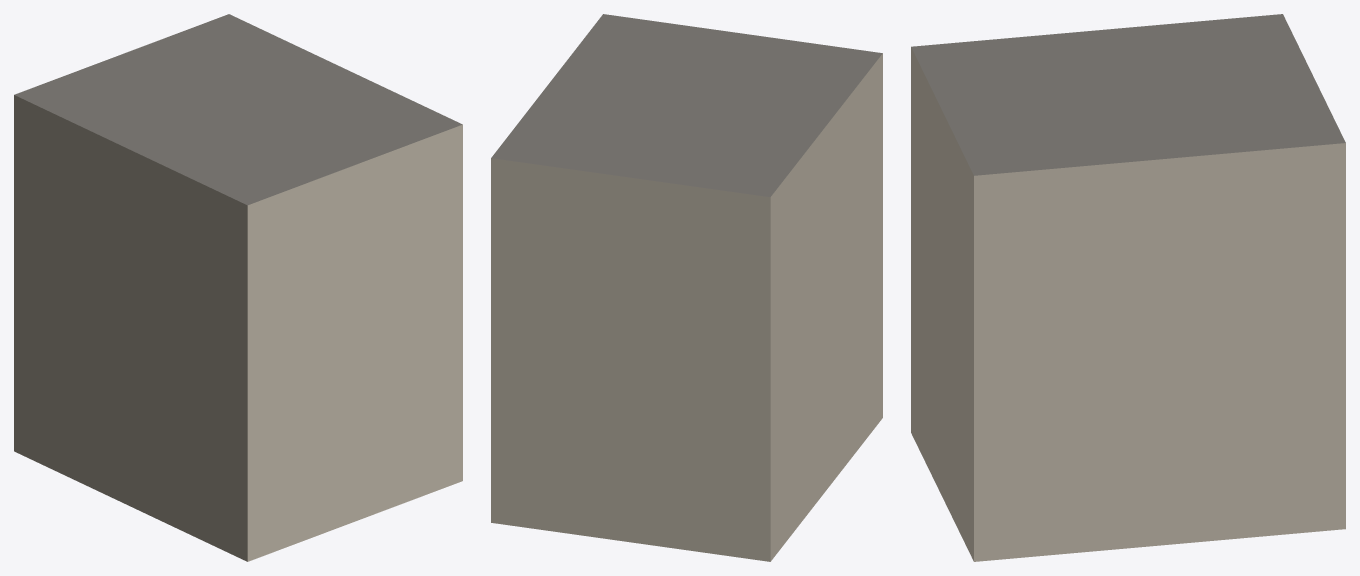
The picture shows the model from 3 angles, left to right: view 1: azimuth 30°, elevation 25°; view 2: azimuth 150°, elevation 25°; view 3: azimuth 270°, elevation 25°; orthographic projection. The views are drawn at different scales.
Parts seen in each view (by area): view 1: HP-w378107178; view 2: HP-w378107178; view 3: HP-w378107178.
Boxes of the visible parts, x1=… form: HP-w378107178: x1=14, y1=14, x2=462, y2=561; HP-w378107178: x1=491, y1=14, x2=882, y2=561; HP-w378107178: x1=911, y1=14, x2=1345, y2=561.
Bounding box in the file's own units: 13.48 × 15 × 15.31.
